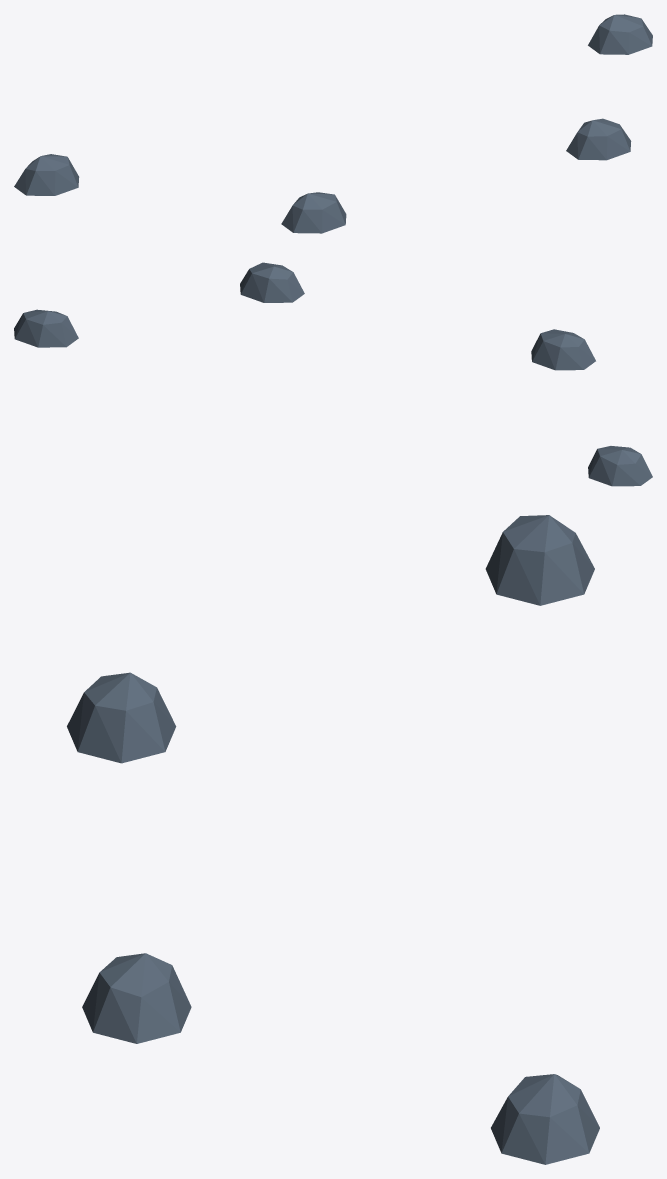
3 renders of one model, top to bottom at view 1: azimuth 30°, elevation 25°; view 2: azimuth 150°, elevation 25°; view 3: azimuth 270°, elevation 25°, orthographic. The views are drawn at different scales.
Parts seen in each view (by area): view 1: 独立林缘散石.001; view 2: 独立林缘散石.001; view 3: 独立林缘散石.001.
Part boxes in pixels (x1,y1,x2,y2): 独立林缘散石.001: (14, 14, 652, 233); 独立林缘散石.001: (14, 262, 652, 486); 独立林缘散石.001: (67, 515, 599, 1164).
Size of the model in its own units: 2.86 by 0.12 by 1.04.
